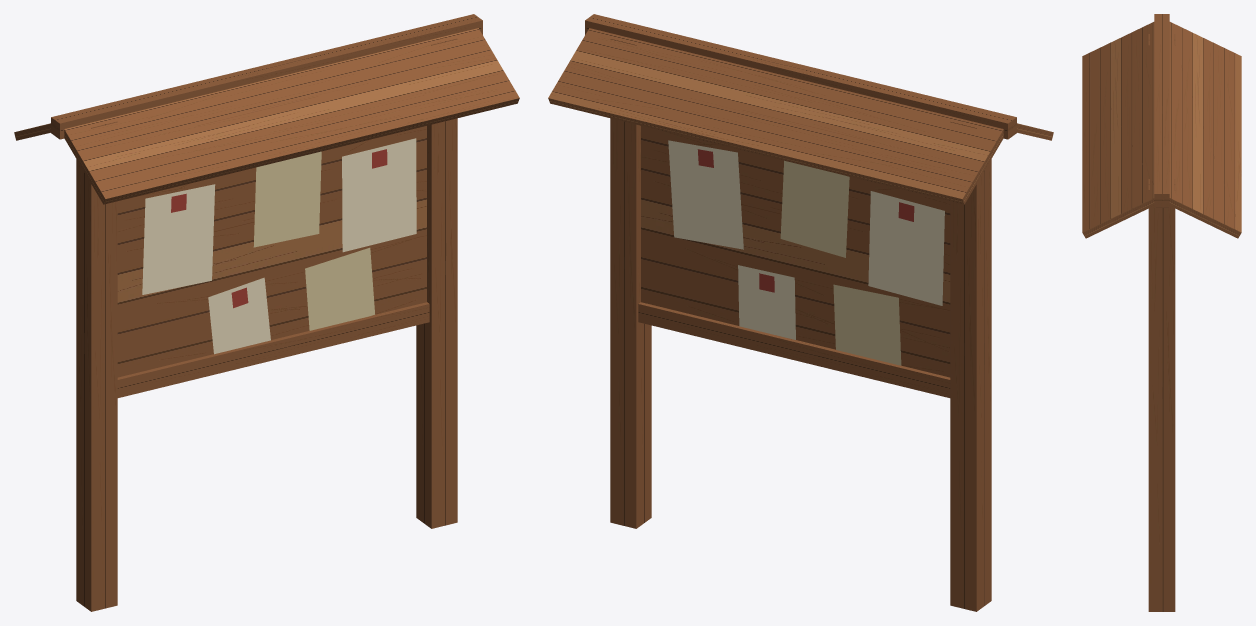
File: notice_board.glb
3 renders of one model, left to right at view 1: azimuth 30°, elevation 25°; view 2: azimuth 150°, elevation 25°; view 3: azimuth 270°, elevation 25°, orthographic. The views are drawn at different scales.
Visible parts, largest first — view 1: notice_board; view 2: notice_board; view 3: notice_board.
Part boxes in pixels (x1,y1,x2,y2): notice_board: [14, 14, 519, 611]; notice_board: [548, 14, 1053, 611]; notice_board: [1082, 14, 1241, 611].
Bounding box in the file's own units: 1.94 × 2.16 × 0.726.
Materials: 4 (1 with a texture image).
